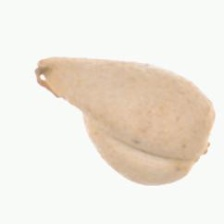L1: (33, 56, 62, 101), (191, 126, 212, 176)
L2: (34, 56, 216, 187)
